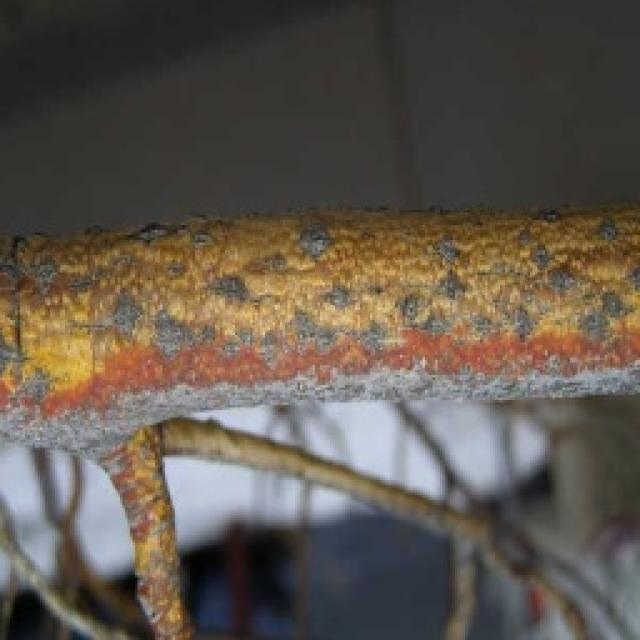Chlorosis: (0, 188, 638, 452)
